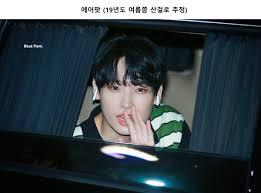earphone: (92, 86, 98, 101), (154, 94, 161, 106)
